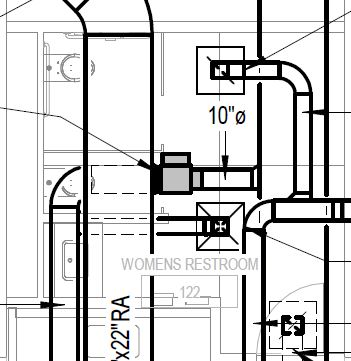VAV: (145, 137, 209, 203)
